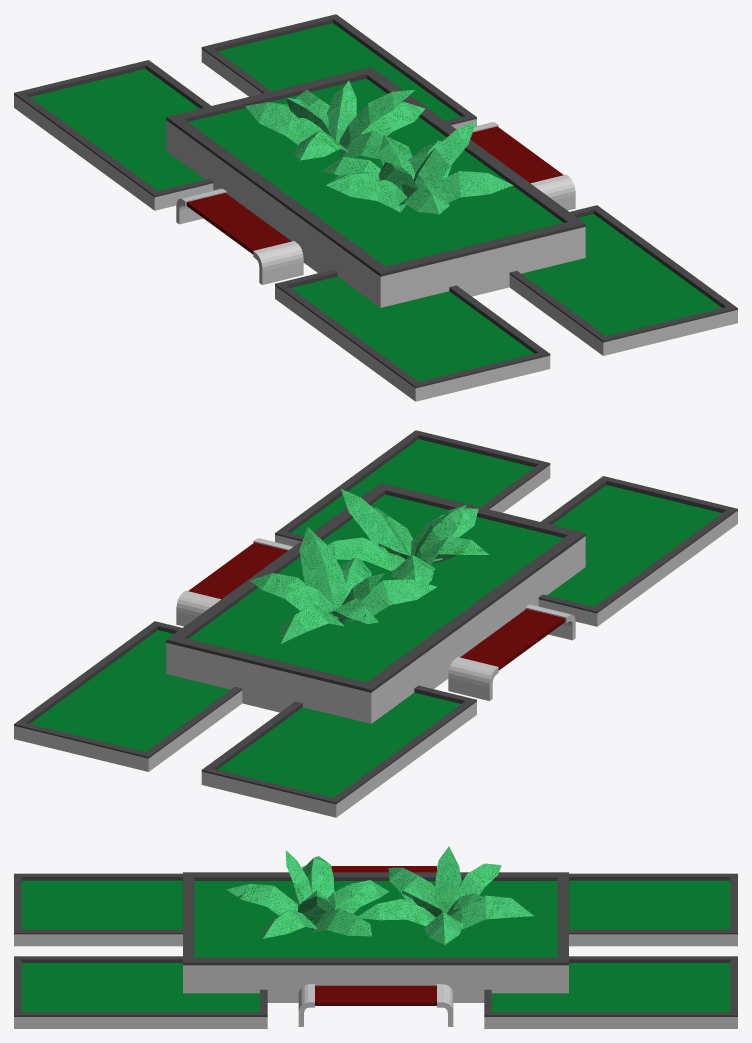
Rendered from Garden-02.fbx.
3 views of the same model, one above another, from view 1: azimuth 30°, elevation 25°; view 2: azimuth 150°, elevation 25°; view 3: azimuth 270°, elevation 25° (orthographic). The views are drawn at different scales.
Parts seen in each view (by area): view 1: Garden-02; view 2: Garden-02; view 3: Garden-02.
Part boxes in pixels (x1,y1,x2,y2): Garden-02: (14,14,737,401); Garden-02: (14,430,737,817); Garden-02: (14,846,737,1028).
Size of what is drawn, in the model's own units: 5.84 by 1.76 by 12.6.
